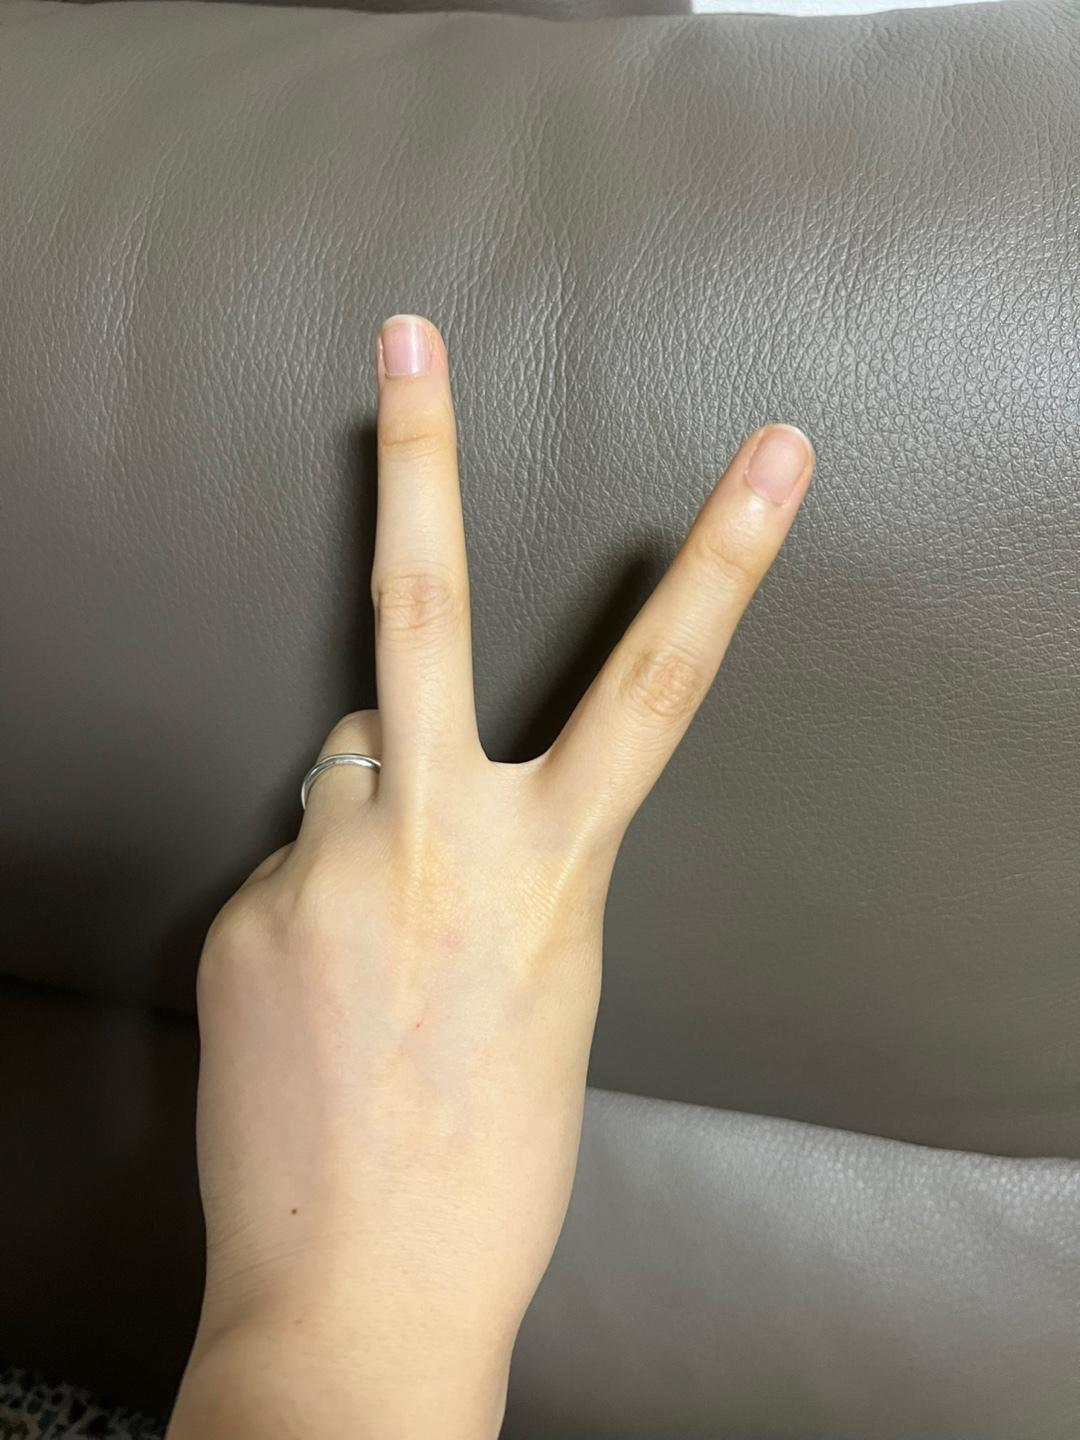v: (178, 304, 815, 1440)
